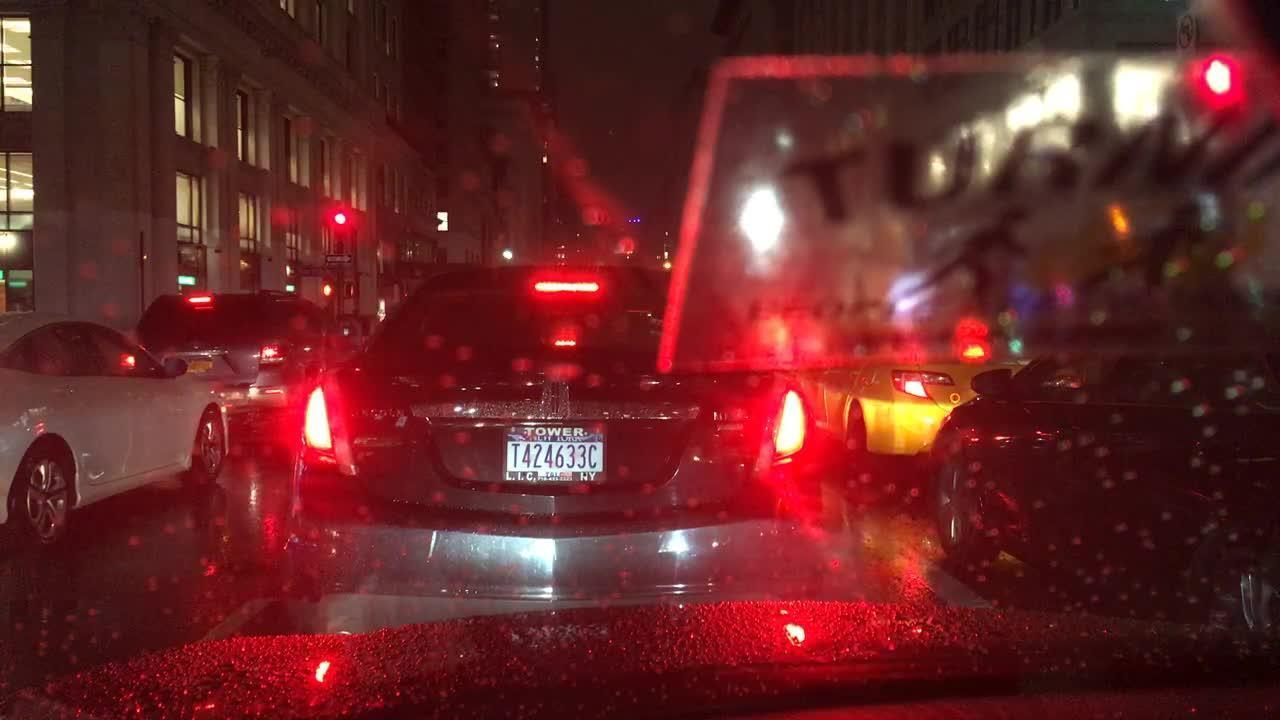lincoln: (544, 378, 570, 418)
